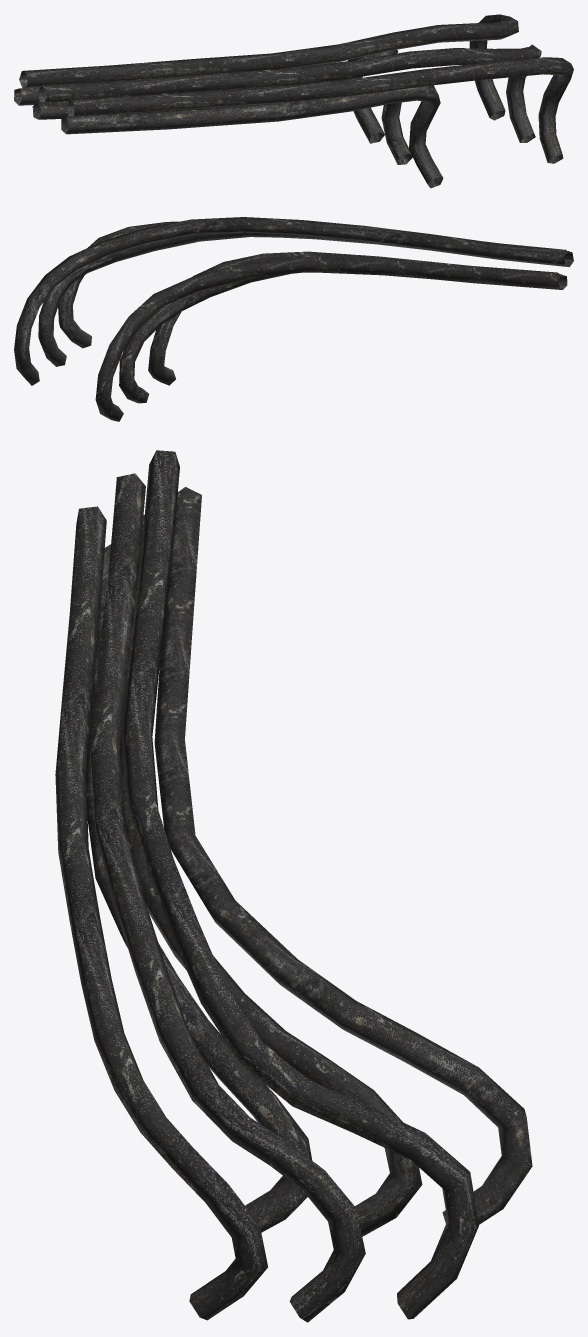
File: DeviceProvoda.fbx
3 views of the same model, one above another, from view 1: azimuth 30°, elevation 25°; view 2: azimuth 150°, elevation 25°; view 3: azimuth 270°, elevation 25° (orthographic). The views are drawn at different scales.
Visible parts, largest first — view 1: mesh_3.332; view 2: mesh_3.332; view 3: mesh_3.332.
Boxes of the visible parts, x1,y1,x2,y2 form: mesh_3.332: (14, 14, 573, 188); mesh_3.332: (14, 217, 573, 421); mesh_3.332: (55, 450, 532, 1322).
Bounding box in the file's own units: 1.53 × 0.624 × 0.6446.
